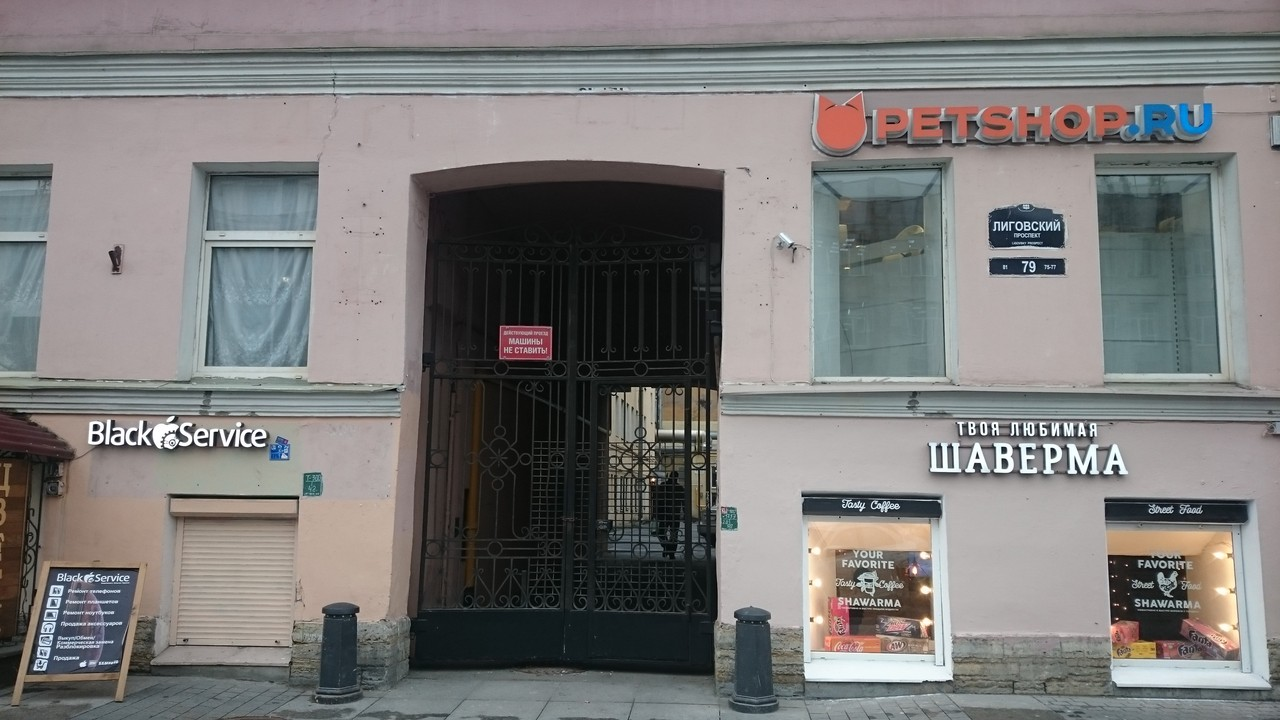arch: (405, 159, 718, 683)
signboard: (811, 83, 1218, 147), (925, 414, 1132, 482), (84, 413, 271, 454)
window: (816, 164, 943, 384), (1097, 162, 1222, 385), (193, 170, 318, 381), (802, 500, 945, 666), (1109, 502, 1247, 666)
